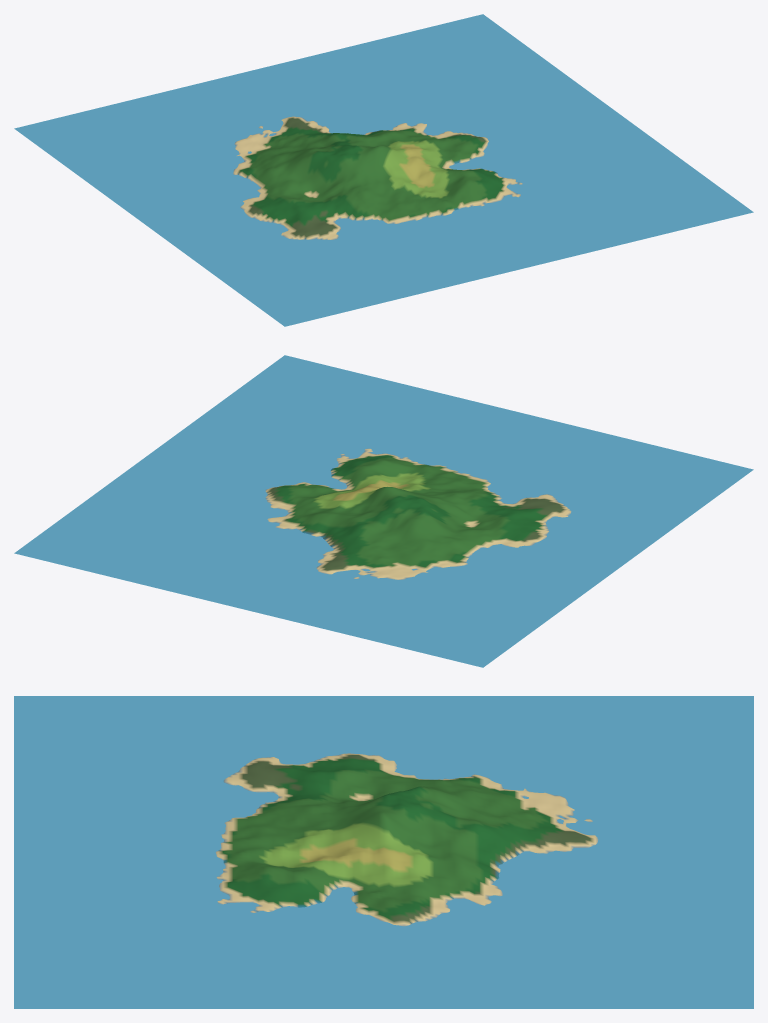
The model's file is island.glb.
3 renders of one model, top to bottom at view 1: azimuth 30°, elevation 25°; view 2: azimuth 150°, elevation 25°; view 3: azimuth 270°, elevation 25°, orthographic. The views are drawn at different scales.
Parts seen in each view (by area): view 1: water, terrain; view 2: water, terrain; view 3: water, terrain.
Boxes of the visible parts, <box> form: water: <box>14,14,753,326</box>; terrain: <box>233,116,522,239</box>; water: <box>14,355,753,667</box>; terrain: <box>265,448,571,579</box>; water: <box>14,696,753,1008</box>; terrain: <box>215,753,598,926</box>.
Size of the model in its own units: 589 by 44.92 by 589.
